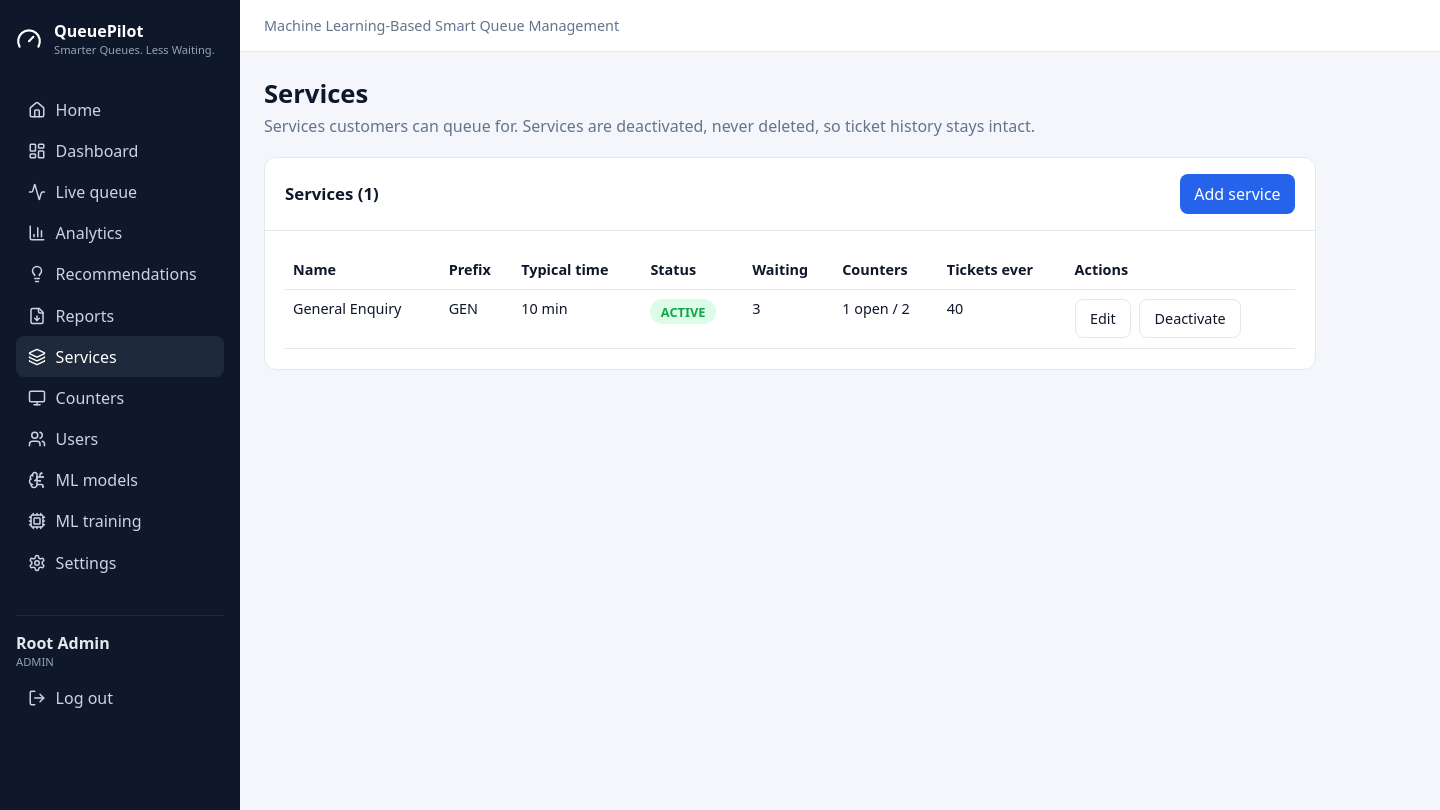
Test case: services list shows real stats and creating a service sends the entered values
Expected: the text "GEN" is shown, [441,289,513,349]
Expected: the text "1 open / 2" is shown, [834,289,939,349]
Click the button "Add service" at {"x": 1237, "y": 194}, box [1180,174,1295,214]
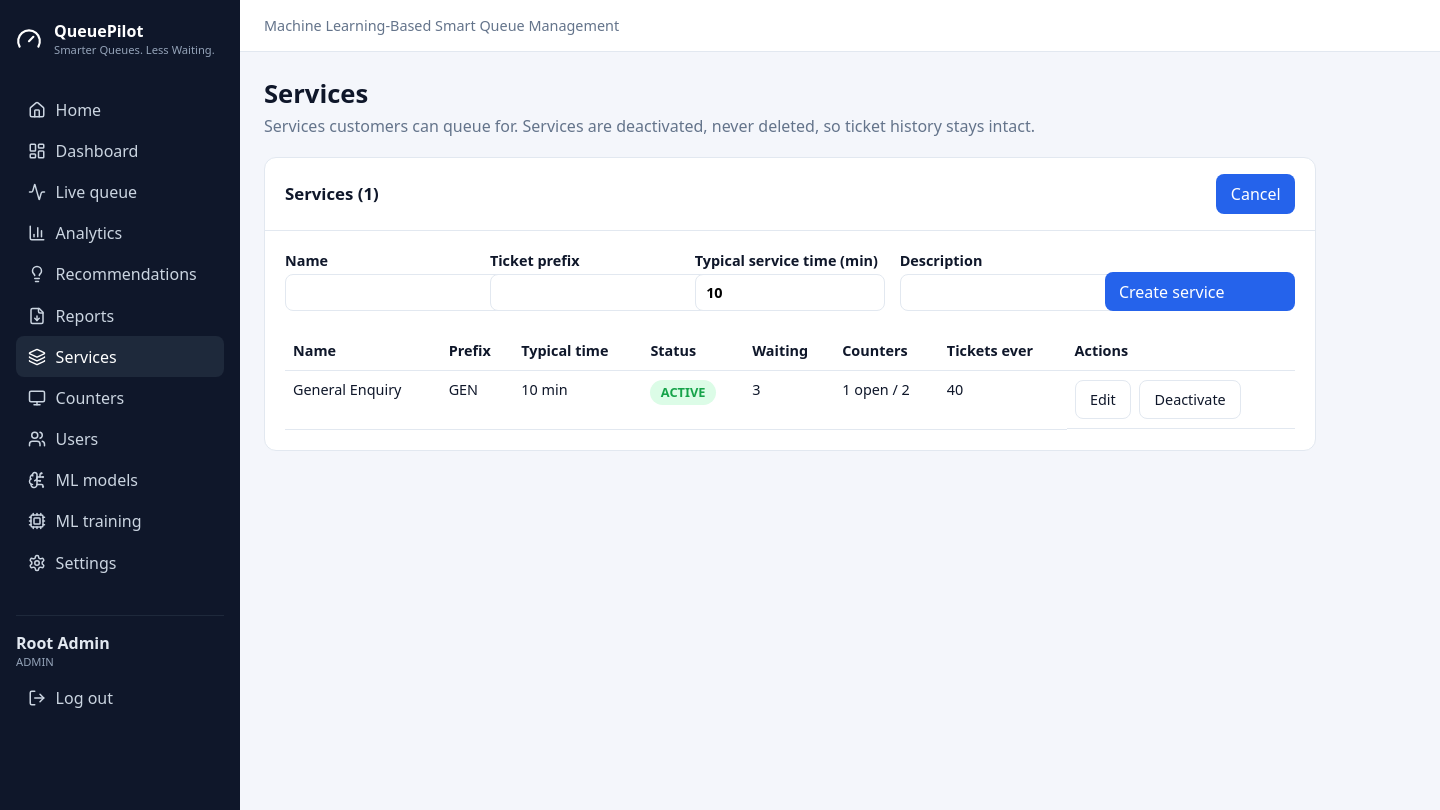
Type "Visa Desk" into the field labelled "Name" at {"x": 407, "y": 293}, box [285,274,529,311]
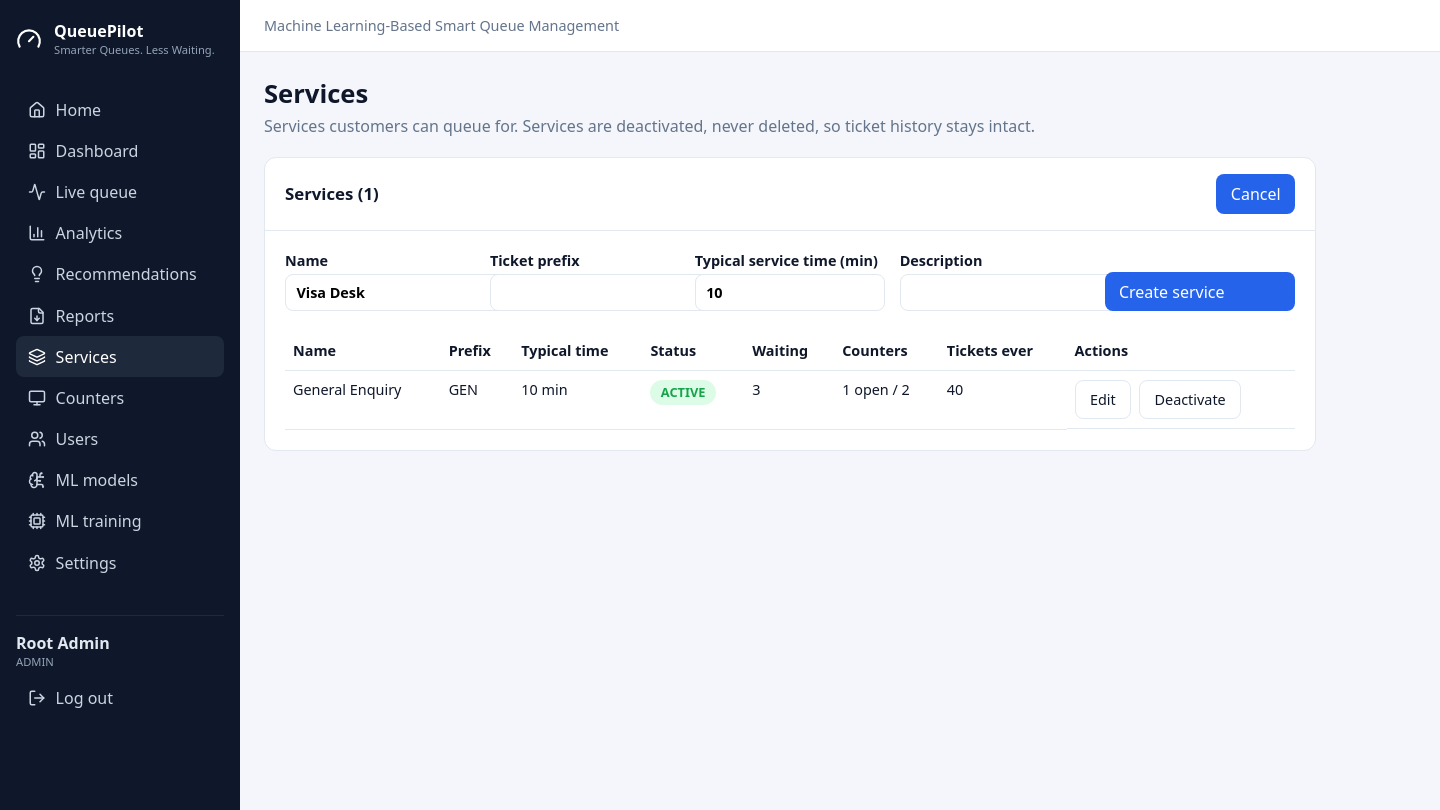
Type "VIS" into the field labelled "Ticket prefix" at {"x": 612, "y": 293}, box [490,274,734,311]
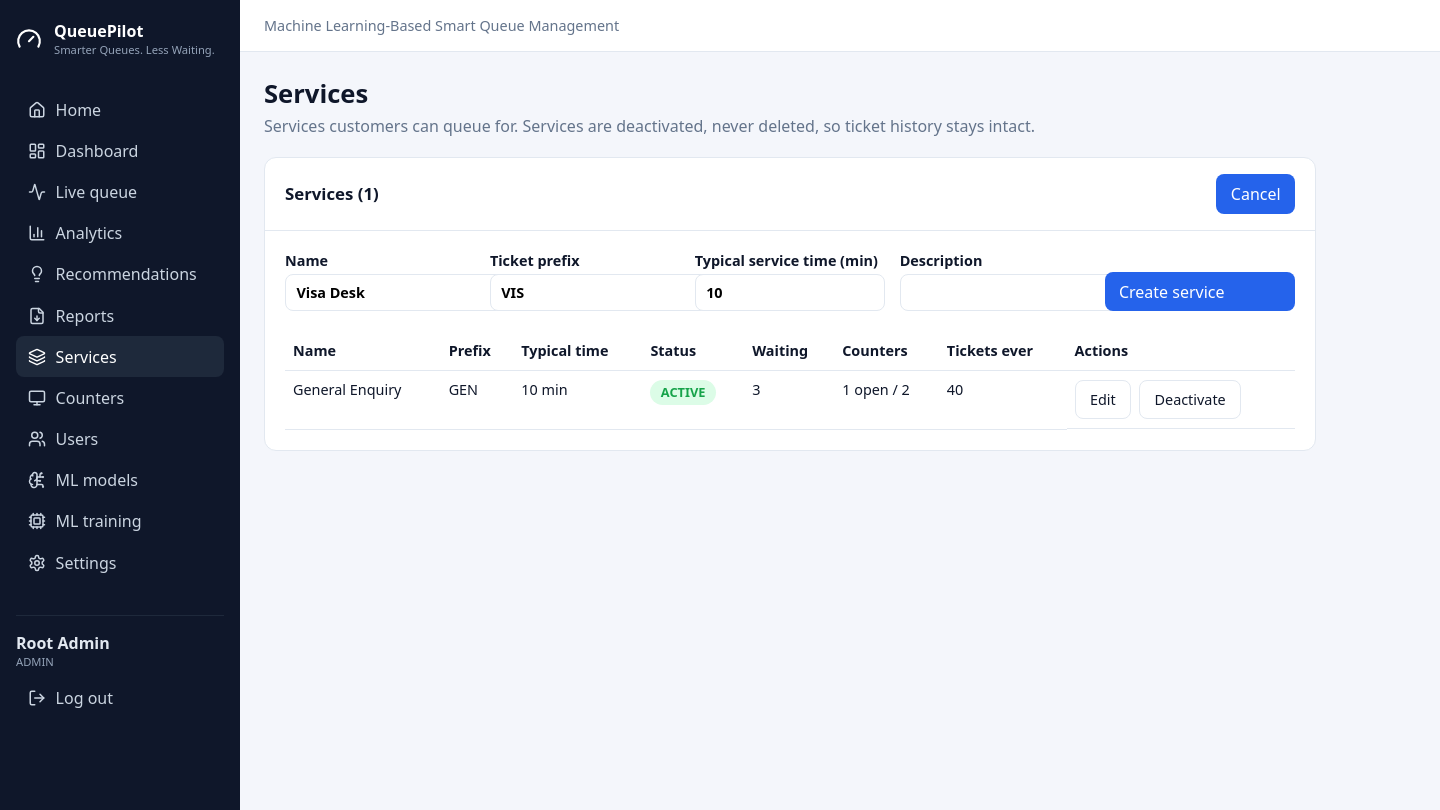
Replace the text in the number field labelled "Typical service time (min)" with "20" at {"x": 790, "y": 293}, box [695,274,885,311]
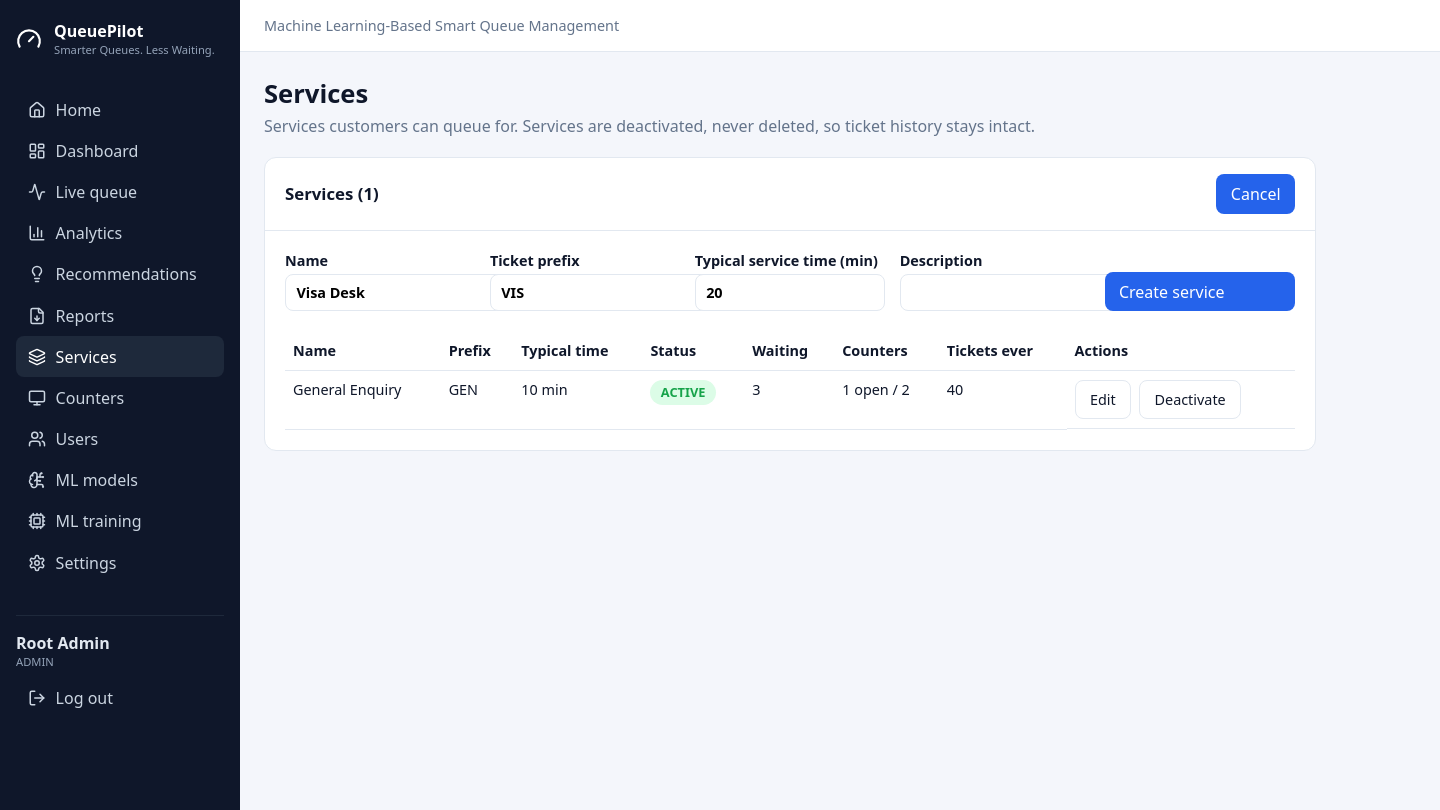
Click the button "Create service" at {"x": 1200, "y": 292}, box [1104,272,1295,311]
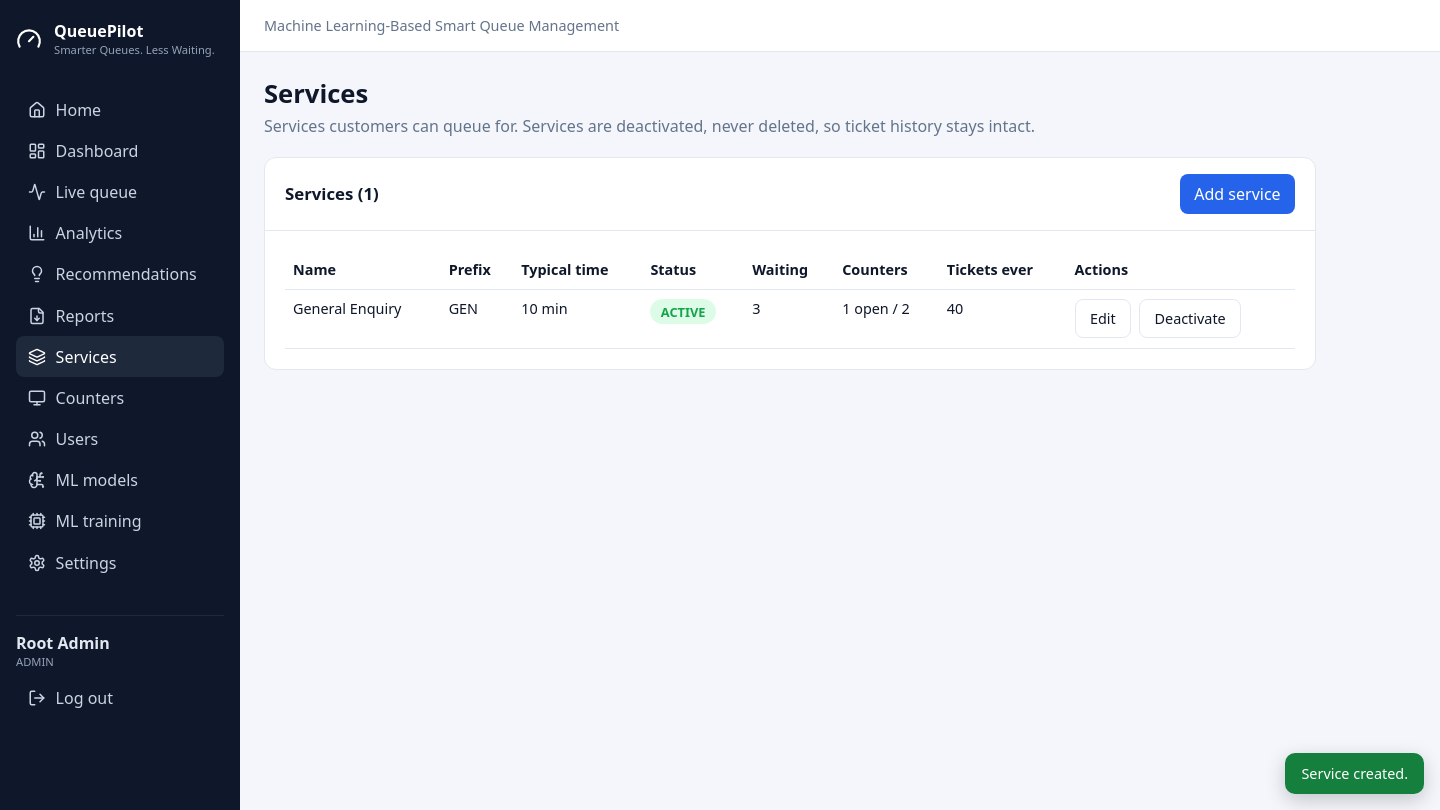
Expected: the text "Service created." is shown, [1286,753,1424,794]
